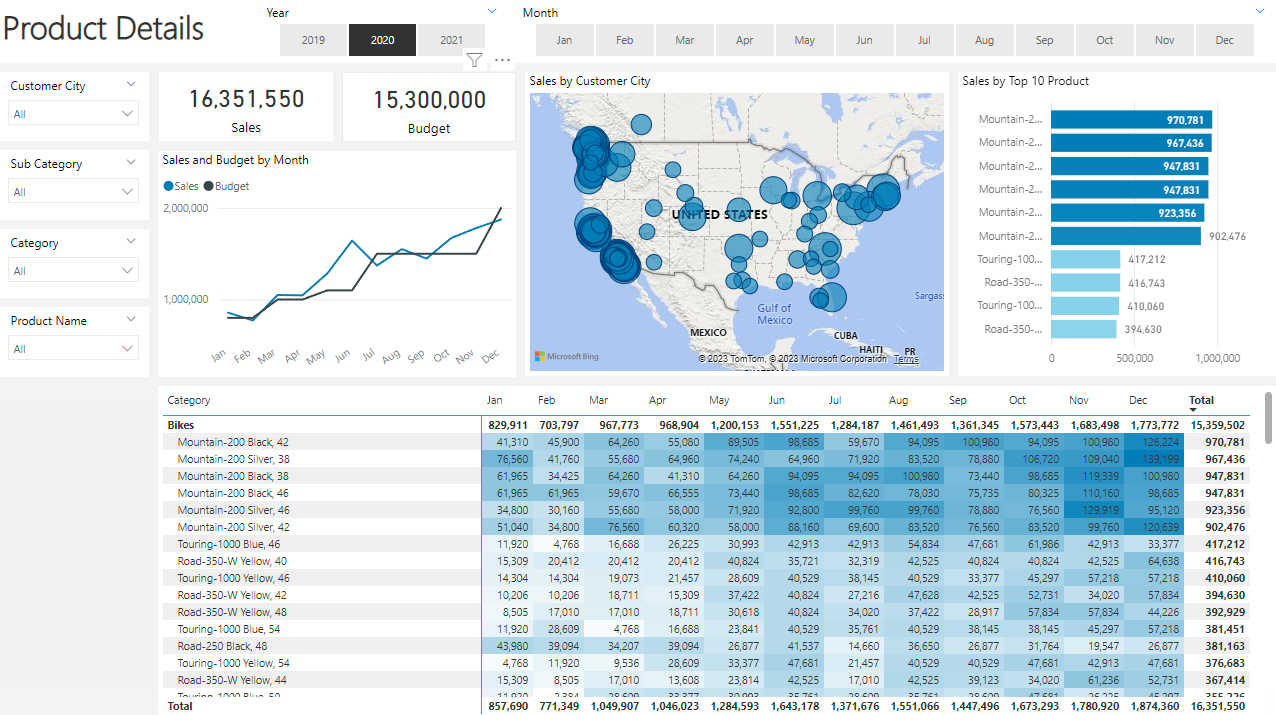

The dashboard page shown, as its layout file describes it:
{"tool":"powerbi","page":{"name":"Product Details","canvas":[1280,720],"ordinal":2},"visuals":[{"type":"textbox","box":[0,0,1280,64],"z":0},{"type":"slicer","fields":{"Values":["DIM_Calendar.Year"]},"box":[256,0,256,64],"z":1000},{"type":"slicer","fields":{"Values":["DIM_Calendar.MonthShort"]},"box":[512,0,768,64],"z":2000},{"type":"slicer","fields":{"Values":["DIM_Customers.Customer City"]},"box":[0,73,150.5,69.3],"z":3000},{"type":"slicer","fields":{"Values":["DIM_Products.Product Category"]},"box":[0,229.9,150.5,69.3],"z":4000},{"type":"slicer","fields":{"Values":["DIM_Products.Product Name"]},"box":[0,308.4,150.5,69.3],"z":5000},{"type":"slicer","fields":{"Values":["DIM_Products.Sub Category"]},"box":[0,151.4,150.5,69.3],"z":6000},{"type":"lineChart","fields":{"Category":["DIM_Calendar.MonthShort"],"Y":["Analysis Metrics.Sales","Analysis Metrics.Budget"]},"box":[159.8,151.8,358.7,226.4],"z":7000},{"type":"card","fields":{"Values":["Analysis Metrics.Sales"]},"box":[160.7,72.8,174,69.2],"z":8000},{"type":"map","fields":{"Category":["DIM_Customers.Customer City"],"Size":["Analysis Metrics.Sales"]},"box":[527.3,72.8,423.5,304.5],"z":9000},{"type":"card","fields":{"Values":["Analysis Metrics.Budget"]},"box":[343.6,72.8,174.9,70.1],"z":10000},{"type":"pivotTable","fields":{"Rows":["DIM_Products.Product Category","DIM_Products.Product Name"],"Columns":["DIM_Calendar.MonthShort"],"Values":["Analysis Metrics.Sales"]},"box":[159.8,387.1,1120.4,332.9],"z":11000},{"type":"clusteredBarChart","title":"Sales by Top 10 Product","fields":{"Category":["DIM_Products.Product Name"],"Y":["Analysis Metrics.Sales"]},"box":[959.7,72.8,320.5,304.5],"z":12000}]}

Visuals, with their boxes in screenshot pixels (x1, y1, x2, y2), scaled from the page's 1280x720 canvas onto the 1276x715 screenshot:
textbox: x1=0, y1=0, x2=1275, y2=64
slicer - DIM_Calendar.Year: x1=255, y1=0, x2=510, y2=64
slicer - DIM_Calendar.MonthShort: x1=510, y1=0, x2=1275, y2=64
slicer - DIM_Customers.Customer City: x1=0, y1=72, x2=150, y2=141
slicer - DIM_Products.Product Category: x1=0, y1=228, x2=150, y2=297
slicer - DIM_Products.Product Name: x1=0, y1=306, x2=150, y2=375
slicer - DIM_Products.Sub Category: x1=0, y1=150, x2=150, y2=219
lineChart - DIM_Calendar.MonthShort x Analysis Metrics.Sales: x1=159, y1=151, x2=517, y2=376
card - Analysis Metrics.Sales: x1=160, y1=72, x2=334, y2=141
map - DIM_Customers.Customer City x Analysis Metrics.Sales: x1=526, y1=72, x2=948, y2=375
card - Analysis Metrics.Budget: x1=343, y1=72, x2=517, y2=142
pivotTable - DIM_Products.Product Category x DIM_Products.Product Name: x1=159, y1=384, x2=1275, y2=714
"Sales by Top 10 Product" clusteredBarChart: x1=957, y1=72, x2=1275, y2=375
